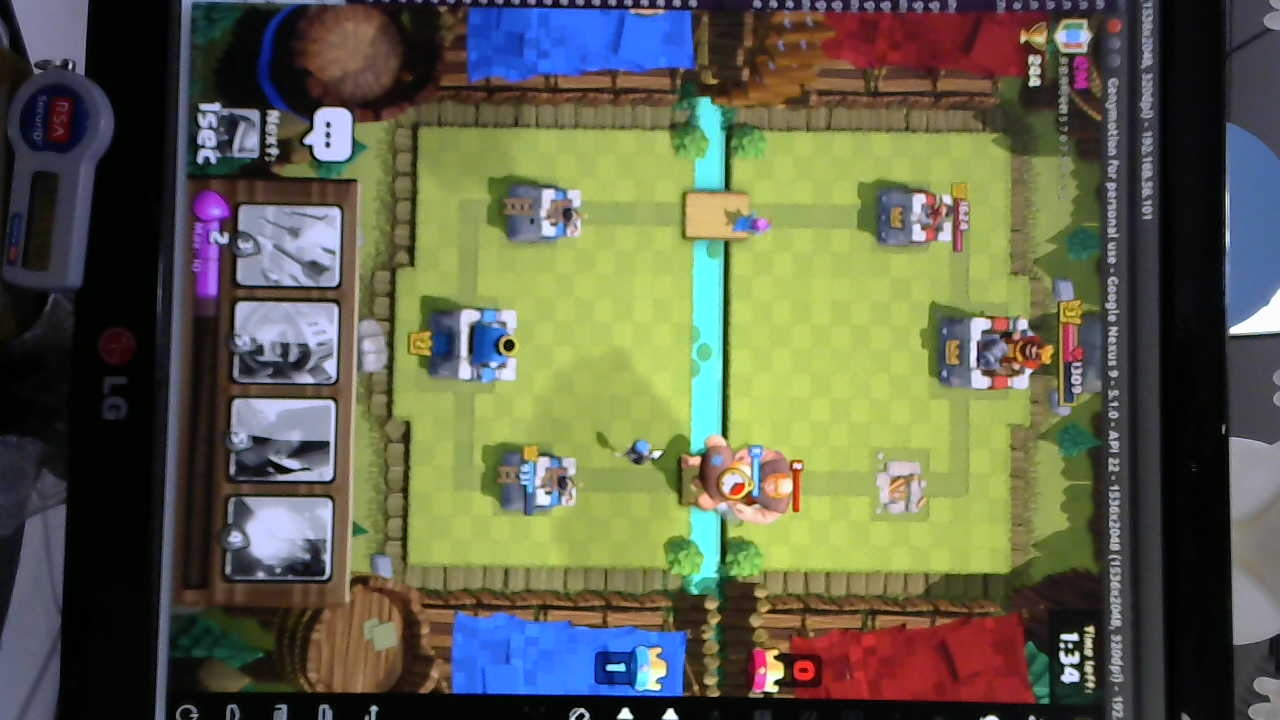giantE: (716, 446, 805, 519)
